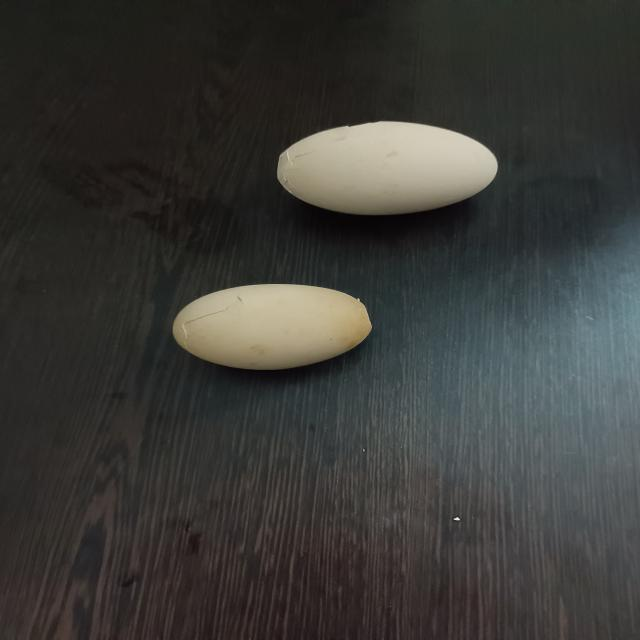biodegradable: (276, 120, 494, 207), (168, 282, 386, 368)
